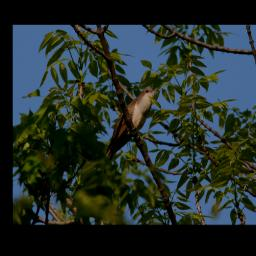Cuckoo: (103, 87, 159, 163)
